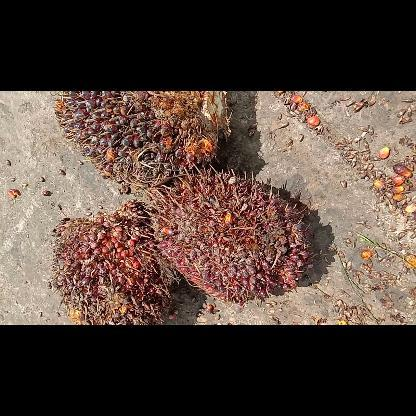Kurang masak: (50, 198, 172, 324)
TBS masak: (148, 168, 312, 304), (51, 92, 231, 188)
